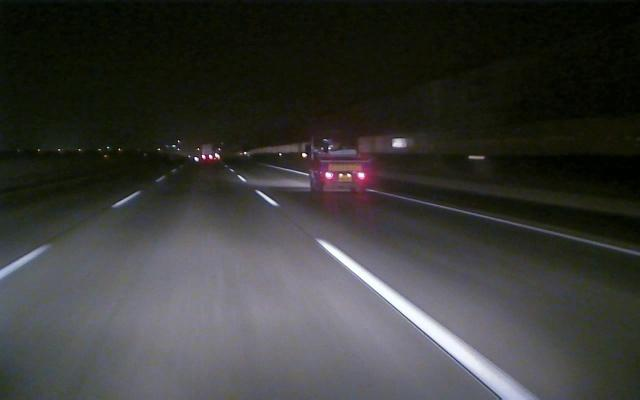lane: (257, 193, 538, 399), (386, 192, 640, 257), (1, 194, 137, 279)
